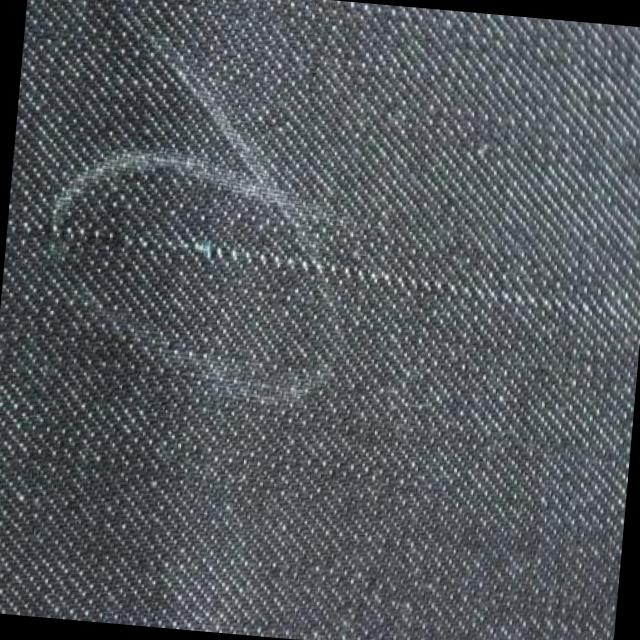Stain: (31, 21, 428, 418)
Warp_Weft: (3, 215, 640, 324)
